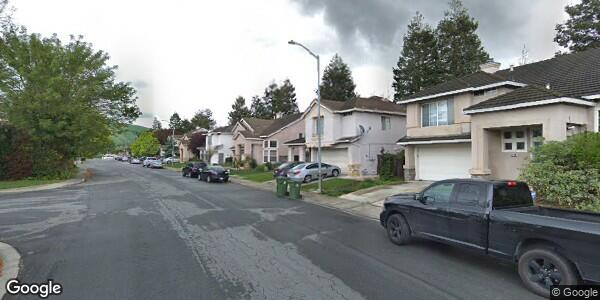Steel_Pole: (287, 39, 326, 191)
